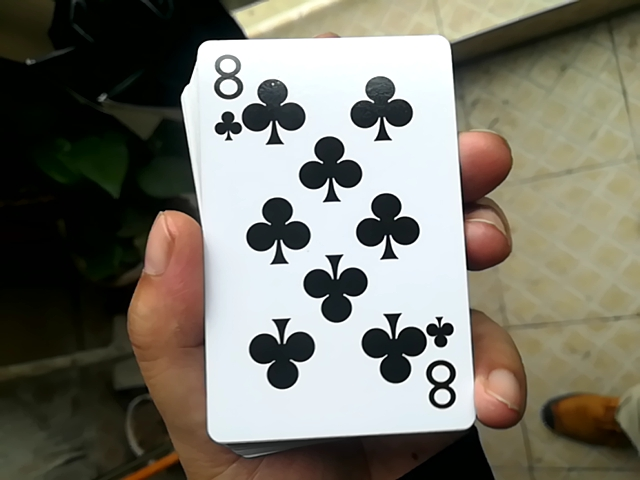mh 8: (163, 34, 468, 447)
